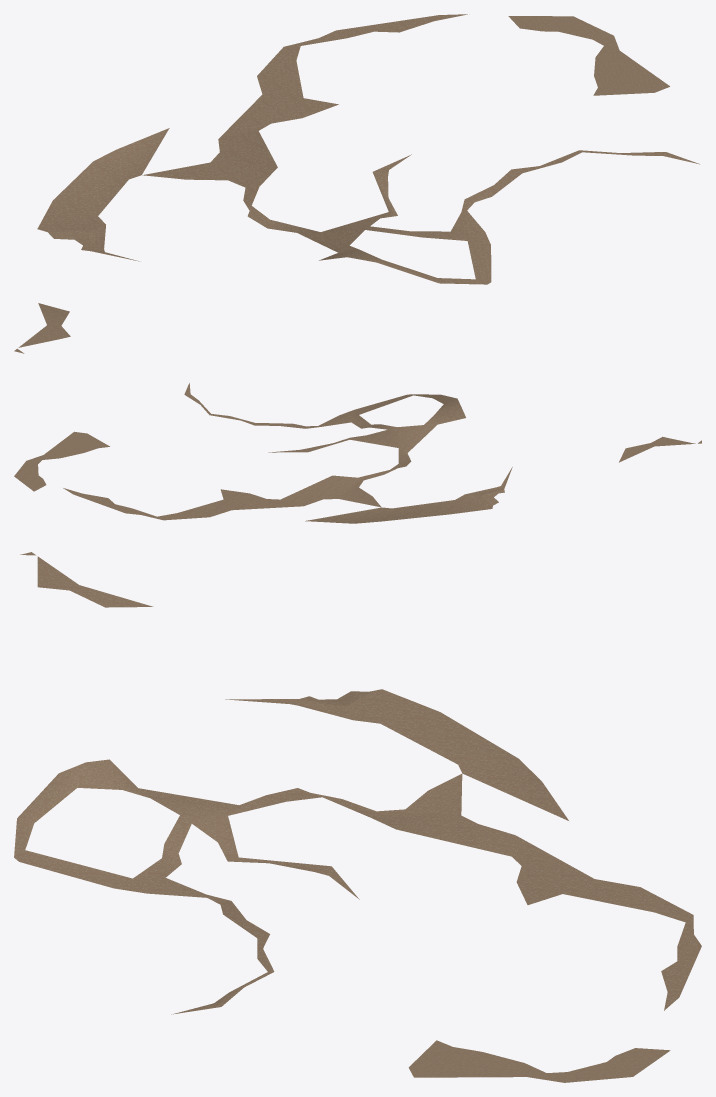
The model's file is kd_connection_town-ground_surface_2_20.glb.
3 views of the same model, one above another, from view 1: azimuth 30°, elevation 25°; view 2: azimuth 150°, elevation 25°; view 3: azimuth 270°, elevation 25° (orthographic). The views are drawn at different scales.
Visible parts, largest first — view 1: kd_connection_town-ground_surface_2_20; view 2: kd_connection_town-ground_surface_2_20; view 3: kd_connection_town-ground_surface_2_20.
Part boxes in pixels (<box>): kd_connection_town-ground_surface_2_20: <box>14,14,699,353</box>; kd_connection_town-ground_surface_2_20: <box>14,383,701,523</box>; kd_connection_town-ground_surface_2_20: <box>14,552,701,1082</box>.
Bounding box in the file's own units: 122 × 8.37 × 76.85.
1 material, 1 textured.
